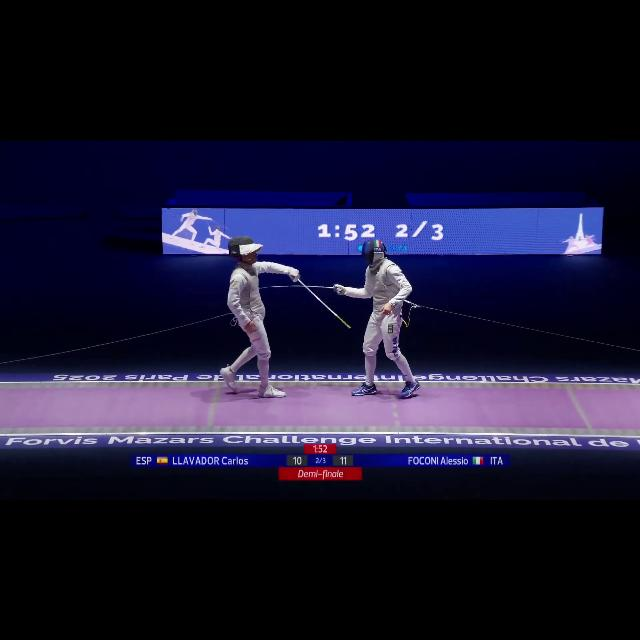blade: (290, 270, 356, 332), (251, 280, 347, 294)
